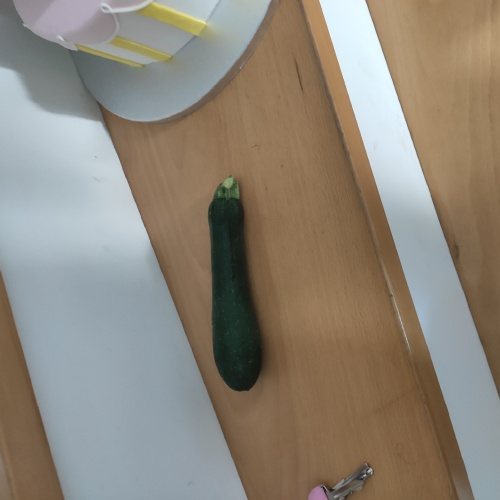zucchine: (195, 178, 277, 398)
